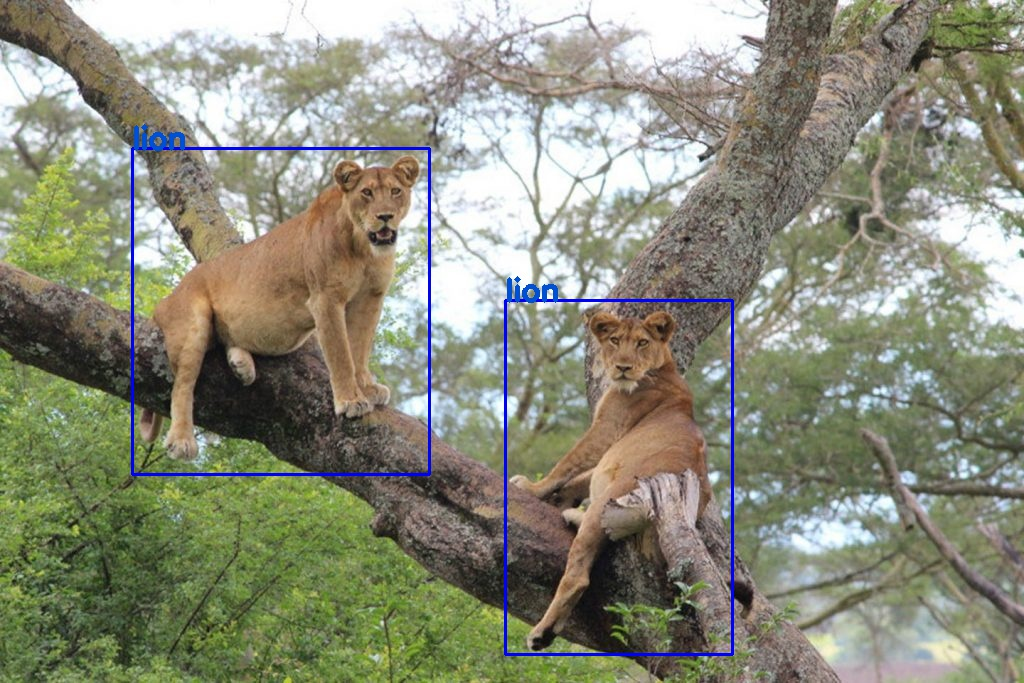lion: (132, 147, 429, 473), (504, 299, 732, 653)
